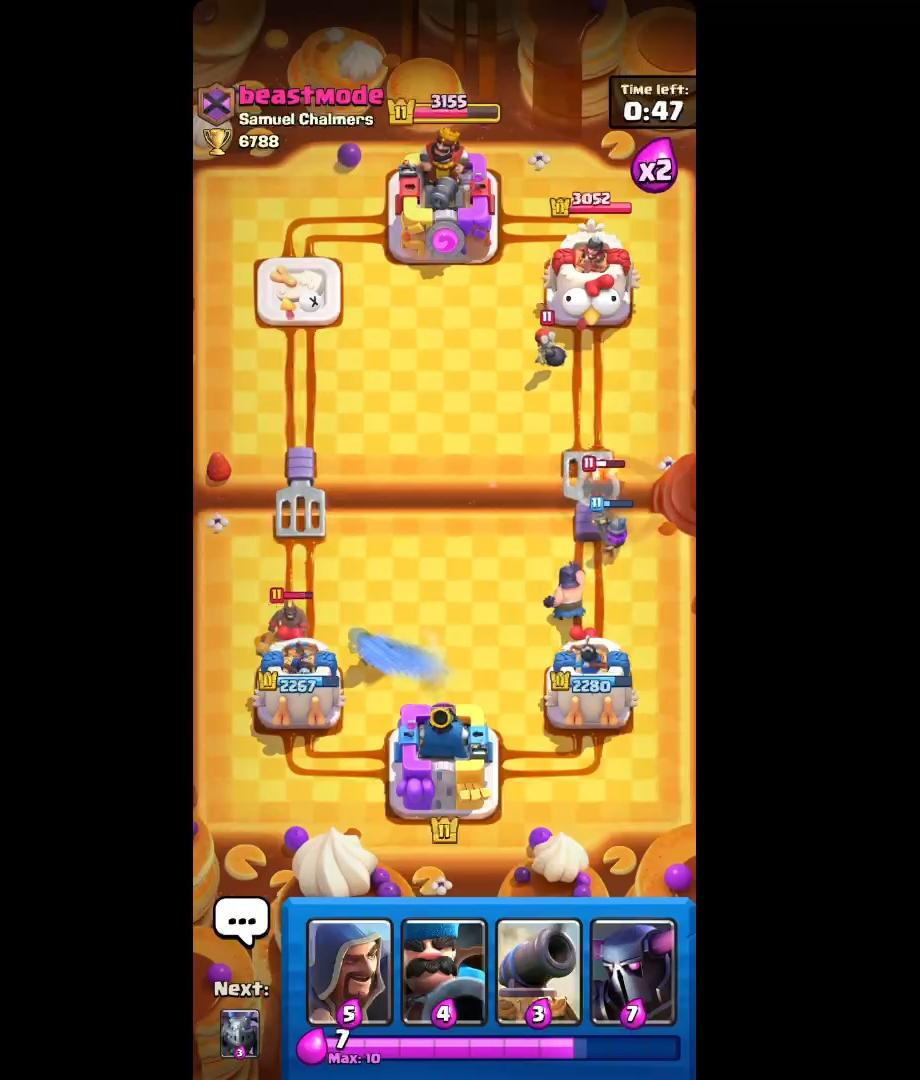Bomber: (534, 321, 569, 373)
Hog Rider: (266, 585, 320, 642)
